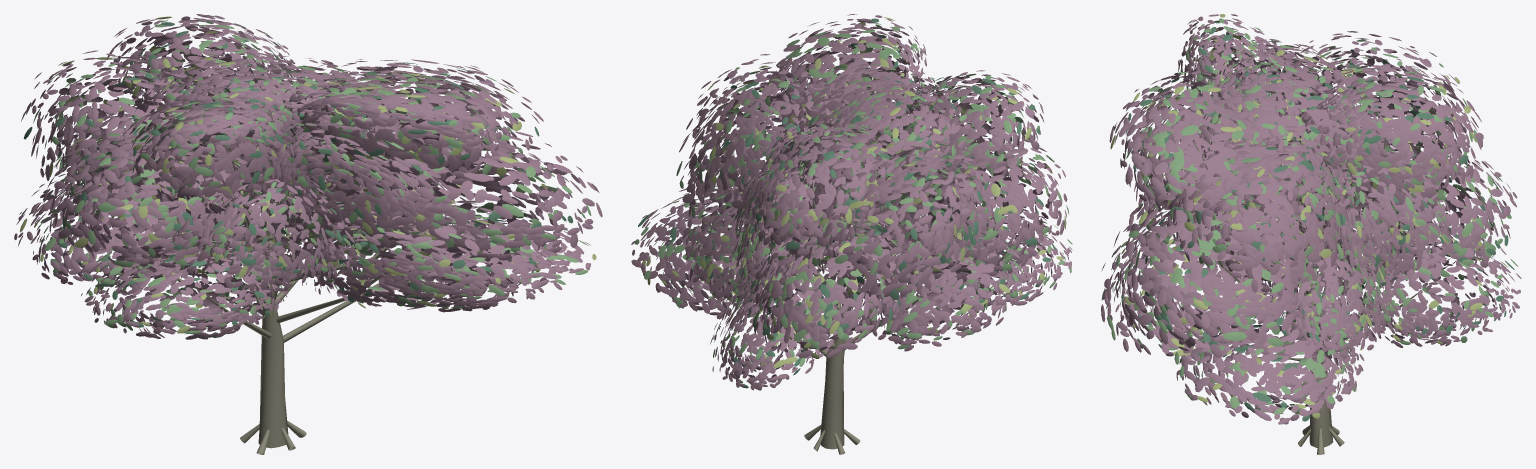
File: grove_5.glb
3 views of the same model, side by side, from view 1: azimuth 30°, elevation 25°; view 2: azimuth 150°, elevation 25°; view 3: azimuth 270°, elevation 25° (orthographic). The views are drawn at different scales.
Parts seen in each view (by area): view 1: study_canopy_2_StudyLeafPurple, study_canopy_2_StudyLeafJade, study_canopy_2_StudyLeafDeep, study_canopy_2_StudyBark, study_canopy_2_StudyLeafGold; view 2: study_canopy_2_StudyLeafPurple, study_canopy_2_StudyLeafJade, study_canopy_2_StudyLeafDeep, study_canopy_2_StudyLeafGold, study_canopy_2_StudyBark; view 3: study_canopy_2_StudyLeafPurple, study_canopy_2_StudyLeafJade, study_canopy_2_StudyLeafDeep, study_canopy_2_StudyLeafGold, study_canopy_2_StudyBark.
Boxes of the visible parts, x1=… form: study_canopy_2_StudyLeafPurple: x1=14, y1=14, x2=602, y2=339; study_canopy_2_StudyLeafJade: x1=19, y1=19, x2=591, y2=337; study_canopy_2_StudyLeafDeep: x1=23, y1=19, x2=573, y2=337; study_canopy_2_StudyBark: x1=147, y1=126, x2=448, y2=454; study_canopy_2_StudyLeafGold: x1=20, y1=16, x2=596, y2=334; study_canopy_2_StudyLeafPurple: x1=631, y1=14, x2=1071, y2=390; study_canopy_2_StudyLeafJade: x1=635, y1=24, x2=1072, y2=383; study_canopy_2_StudyLeafDeep: x1=638, y1=18, x2=1065, y2=390; study_canopy_2_StudyLeafGold: x1=643, y1=17, x2=1066, y2=368; study_canopy_2_StudyBark: x1=734, y1=133, x2=956, y2=454; study_canopy_2_StudyLeafPurple: x1=1101, y1=14, x2=1521, y2=424; study_canopy_2_StudyLeafJade: x1=1101, y1=18, x2=1518, y2=415; study_canopy_2_StudyLeafDeep: x1=1111, y1=20, x2=1514, y2=421; study_canopy_2_StudyLeafGold: x1=1110, y1=14, x2=1508, y2=418; study_canopy_2_StudyBark: x1=1193, y1=140, x2=1417, y2=454.
Bounding box in the file's own units: 13.29 × 10.25 × 10.72.
